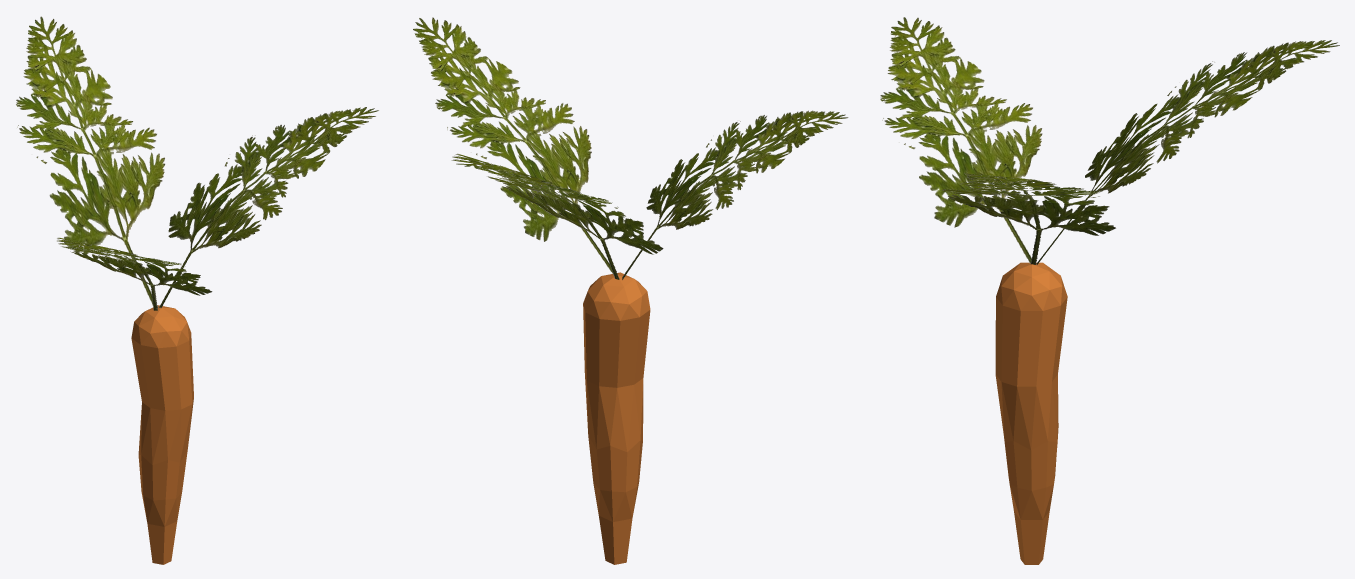
The model's file is Carrot.fbx.
The picture shows the model from 3 angles, left to right: view 1: azimuth 30°, elevation 25°; view 2: azimuth 150°, elevation 25°; view 3: azimuth 270°, elevation 25°; orthographic projection. The views are drawn at different scales.
Parts seen in each view (by area): view 1: Plane.001, Icosphere, Plane.002, Plane.000; view 2: Icosphere, Plane.002, Plane.000, Plane.001; view 3: Icosphere, Plane.000, Plane.001, Plane.002.
Boxes of the visible parts, left/top/right/bottom form: Plane.001: left=16, top=16, right=165, bottom=307; Icosphere: left=131, top=305, right=193, bottom=564; Plane.002: left=159, top=107, right=378, bottom=308; Plane.000: left=57, top=237, right=212, bottom=310; Icosphere: left=583, top=272, right=650, bottom=564; Plane.002: left=413, top=17, right=614, bottom=276; Plane.000: left=622, top=110, right=848, bottom=279; Plane.001: left=451, top=153, right=663, bottom=279; Icosphere: left=995, top=262, right=1067, bottom=564; Plane.000: left=880, top=17, right=1042, bottom=263; Plane.001: left=1036, top=40, right=1339, bottom=264; Plane.002: left=942, top=173, right=1115, bottom=264.
Bounding box in the file's own units: 333 × 405 × 323.
